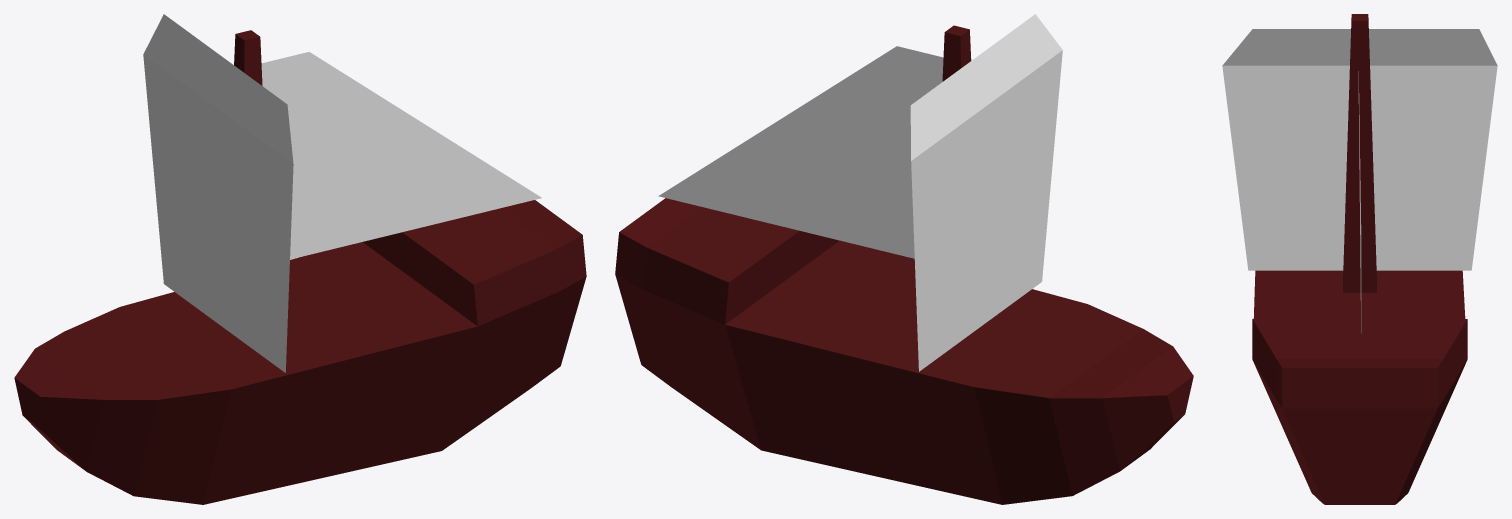
The model's file is low_poly_boat.glb.
3 renders of one model, left to right at view 1: azimuth 30°, elevation 25°; view 2: azimuth 150°, elevation 25°; view 3: azimuth 270°, elevation 25°, orthographic. The views are drawn at different scales.
Parts seen in each view (by area): view 1: Cube, Plane, Plane.001, Cube.001; view 2: Cube, Plane, Plane.001, Cube.001; view 3: Plane, Cube, Cube.001, Plane.001.
Part boxes in pixels (x1,y1,x2,y2): Cube: (14,200,586,504); Plane: (143,14,293,372); Plane.001: (261,52,541,259); Cube.001: (234,30,262,85); Cube: (615,198,1193,504); Plane: (910,14,1062,371); Plane.001: (658,46,943,258); Cube.001: (942,25,971,81); Plane: (1222,29,1497,270); Cube: (1252,270,1467,504); Cube.001: (1343,14,1376,292); Plane.001: (1358,71,1361,332).
Bounding box in the file's own units: 7.54 × 6.09 × 3.79.
